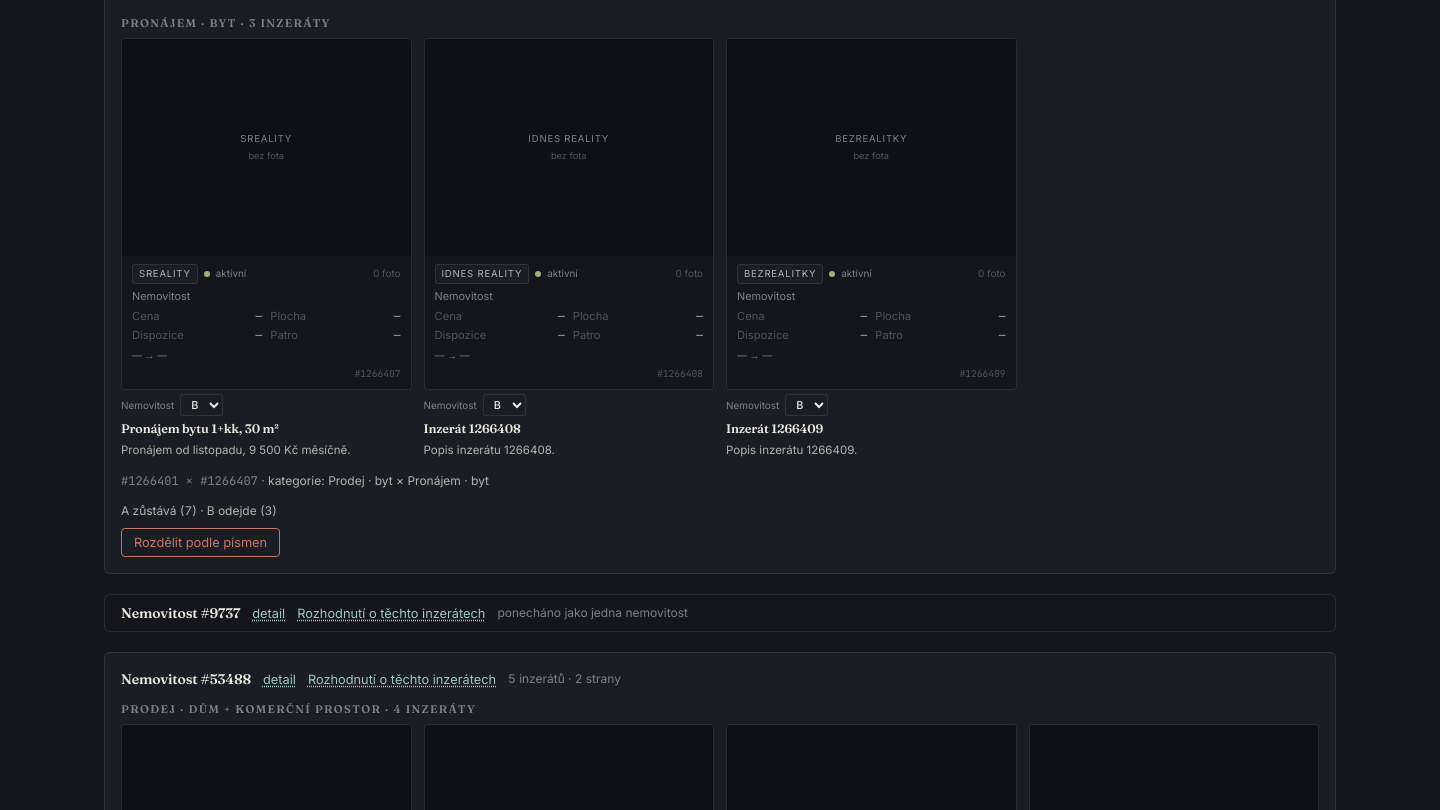
<AutodedupCategorySplits> the split, on the property page › a side that bundles two flats: one rental ad to C is a third letter
The width and height of the screenshot is (1440, 810).
(page scrolled)
Select "C" in the 3rd dropdown labelled "Nemovitost" at (807, 405), box [785,394,828,416]
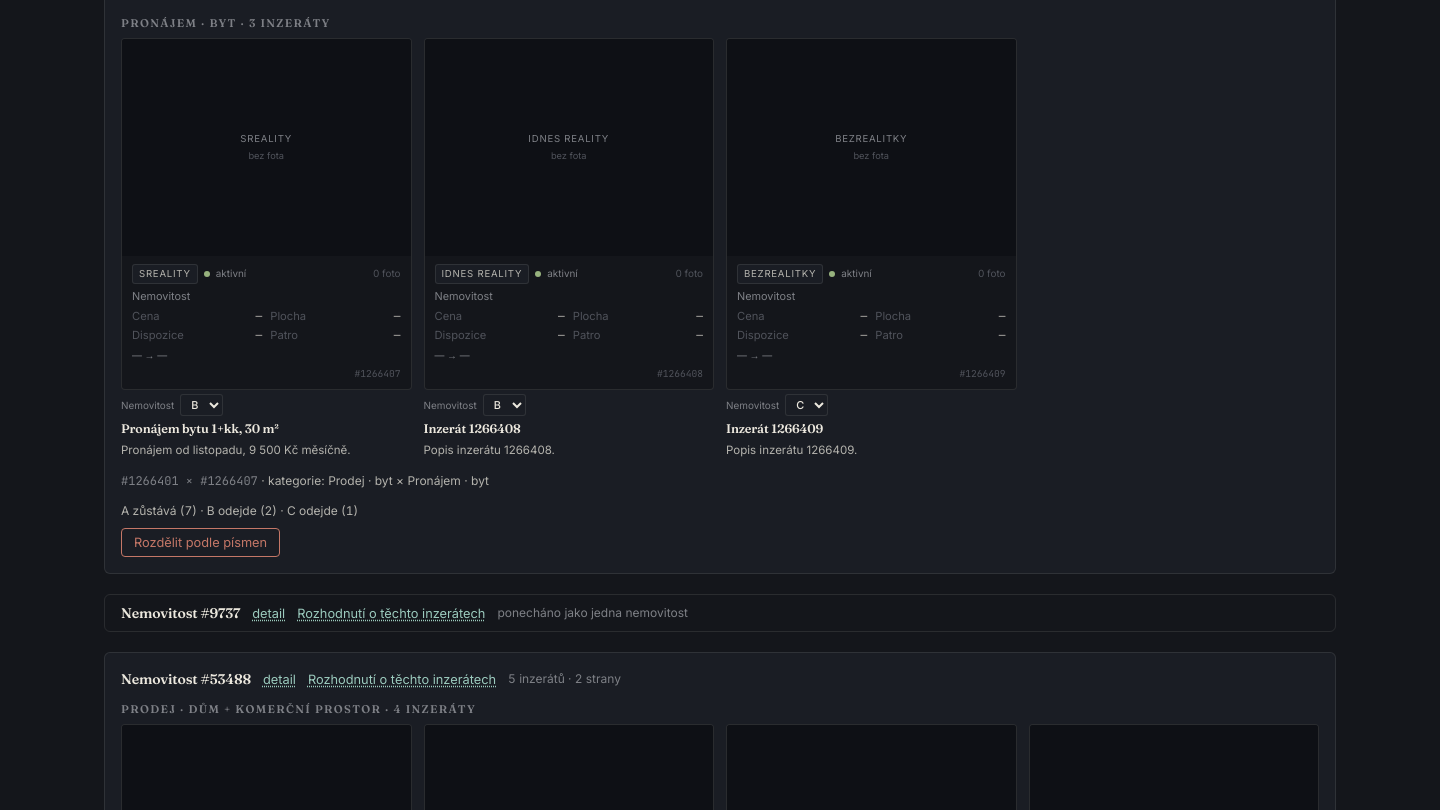
Now the text "A zůstává (7) · B odejde (2) · C odejde (1)" is shown, box [121,503,358,518]
